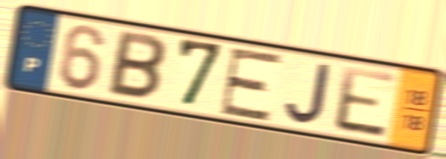6: (56, 22, 108, 92)
7: (176, 36, 224, 112)
B: (105, 27, 169, 103)
E: (217, 46, 286, 123), (333, 63, 399, 141)
J: (283, 61, 333, 126)
